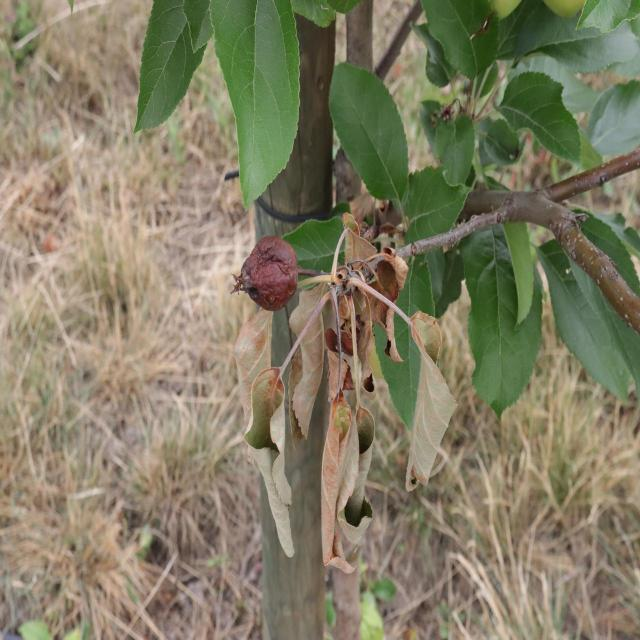-FireBlight-: (334, 203, 388, 574), (230, 320, 296, 573), (286, 277, 330, 423)
